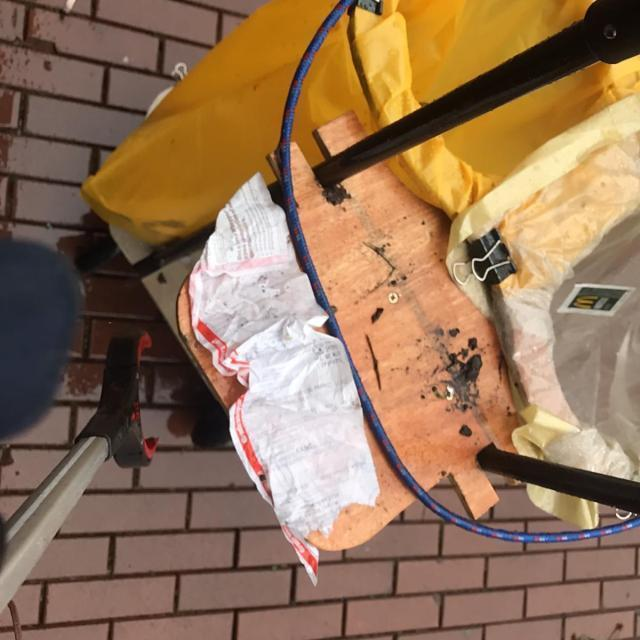Paper: (187, 168, 382, 588)
